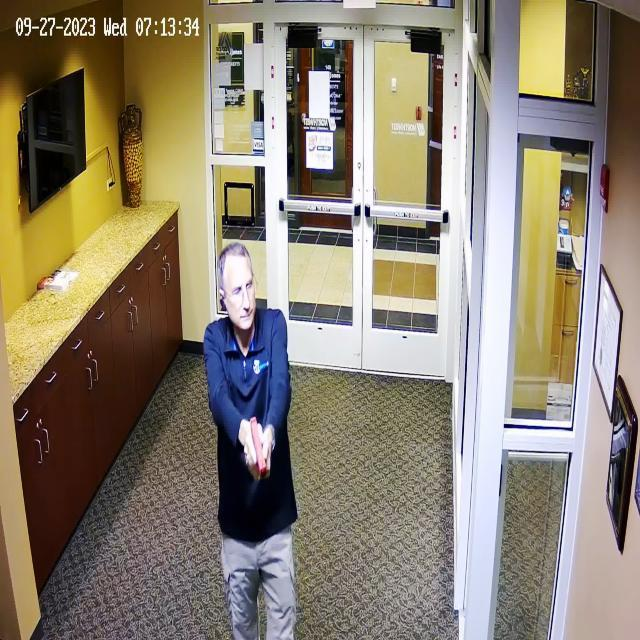Gun: (242, 413, 286, 489)
